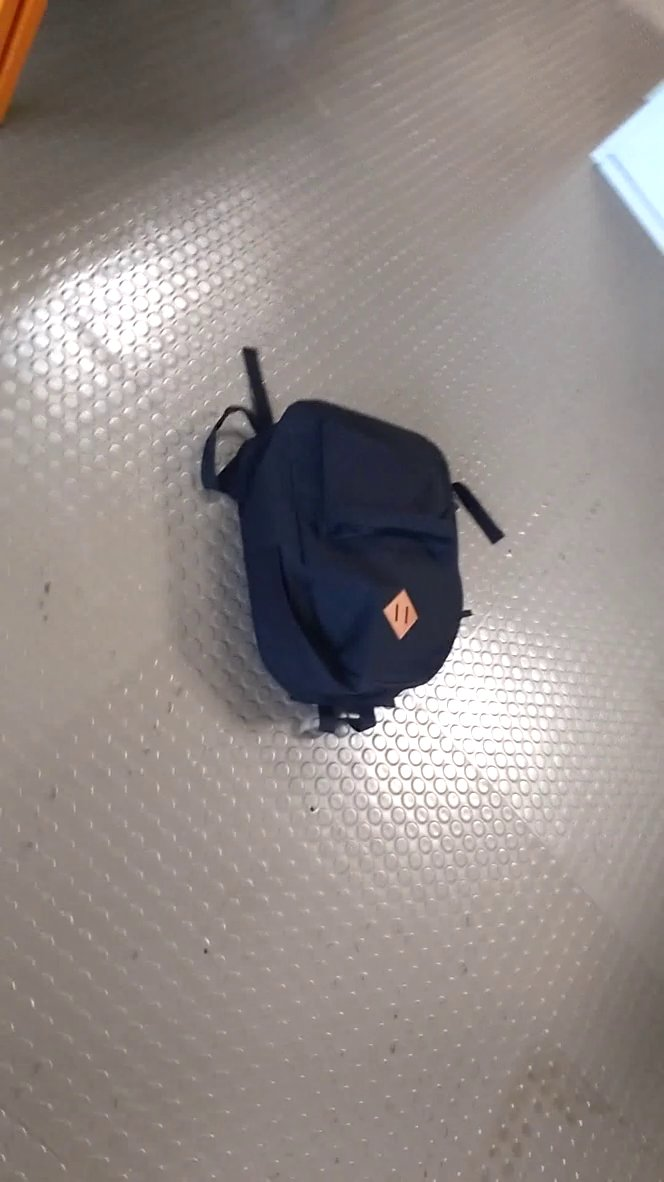bag: (196, 336, 512, 747)
